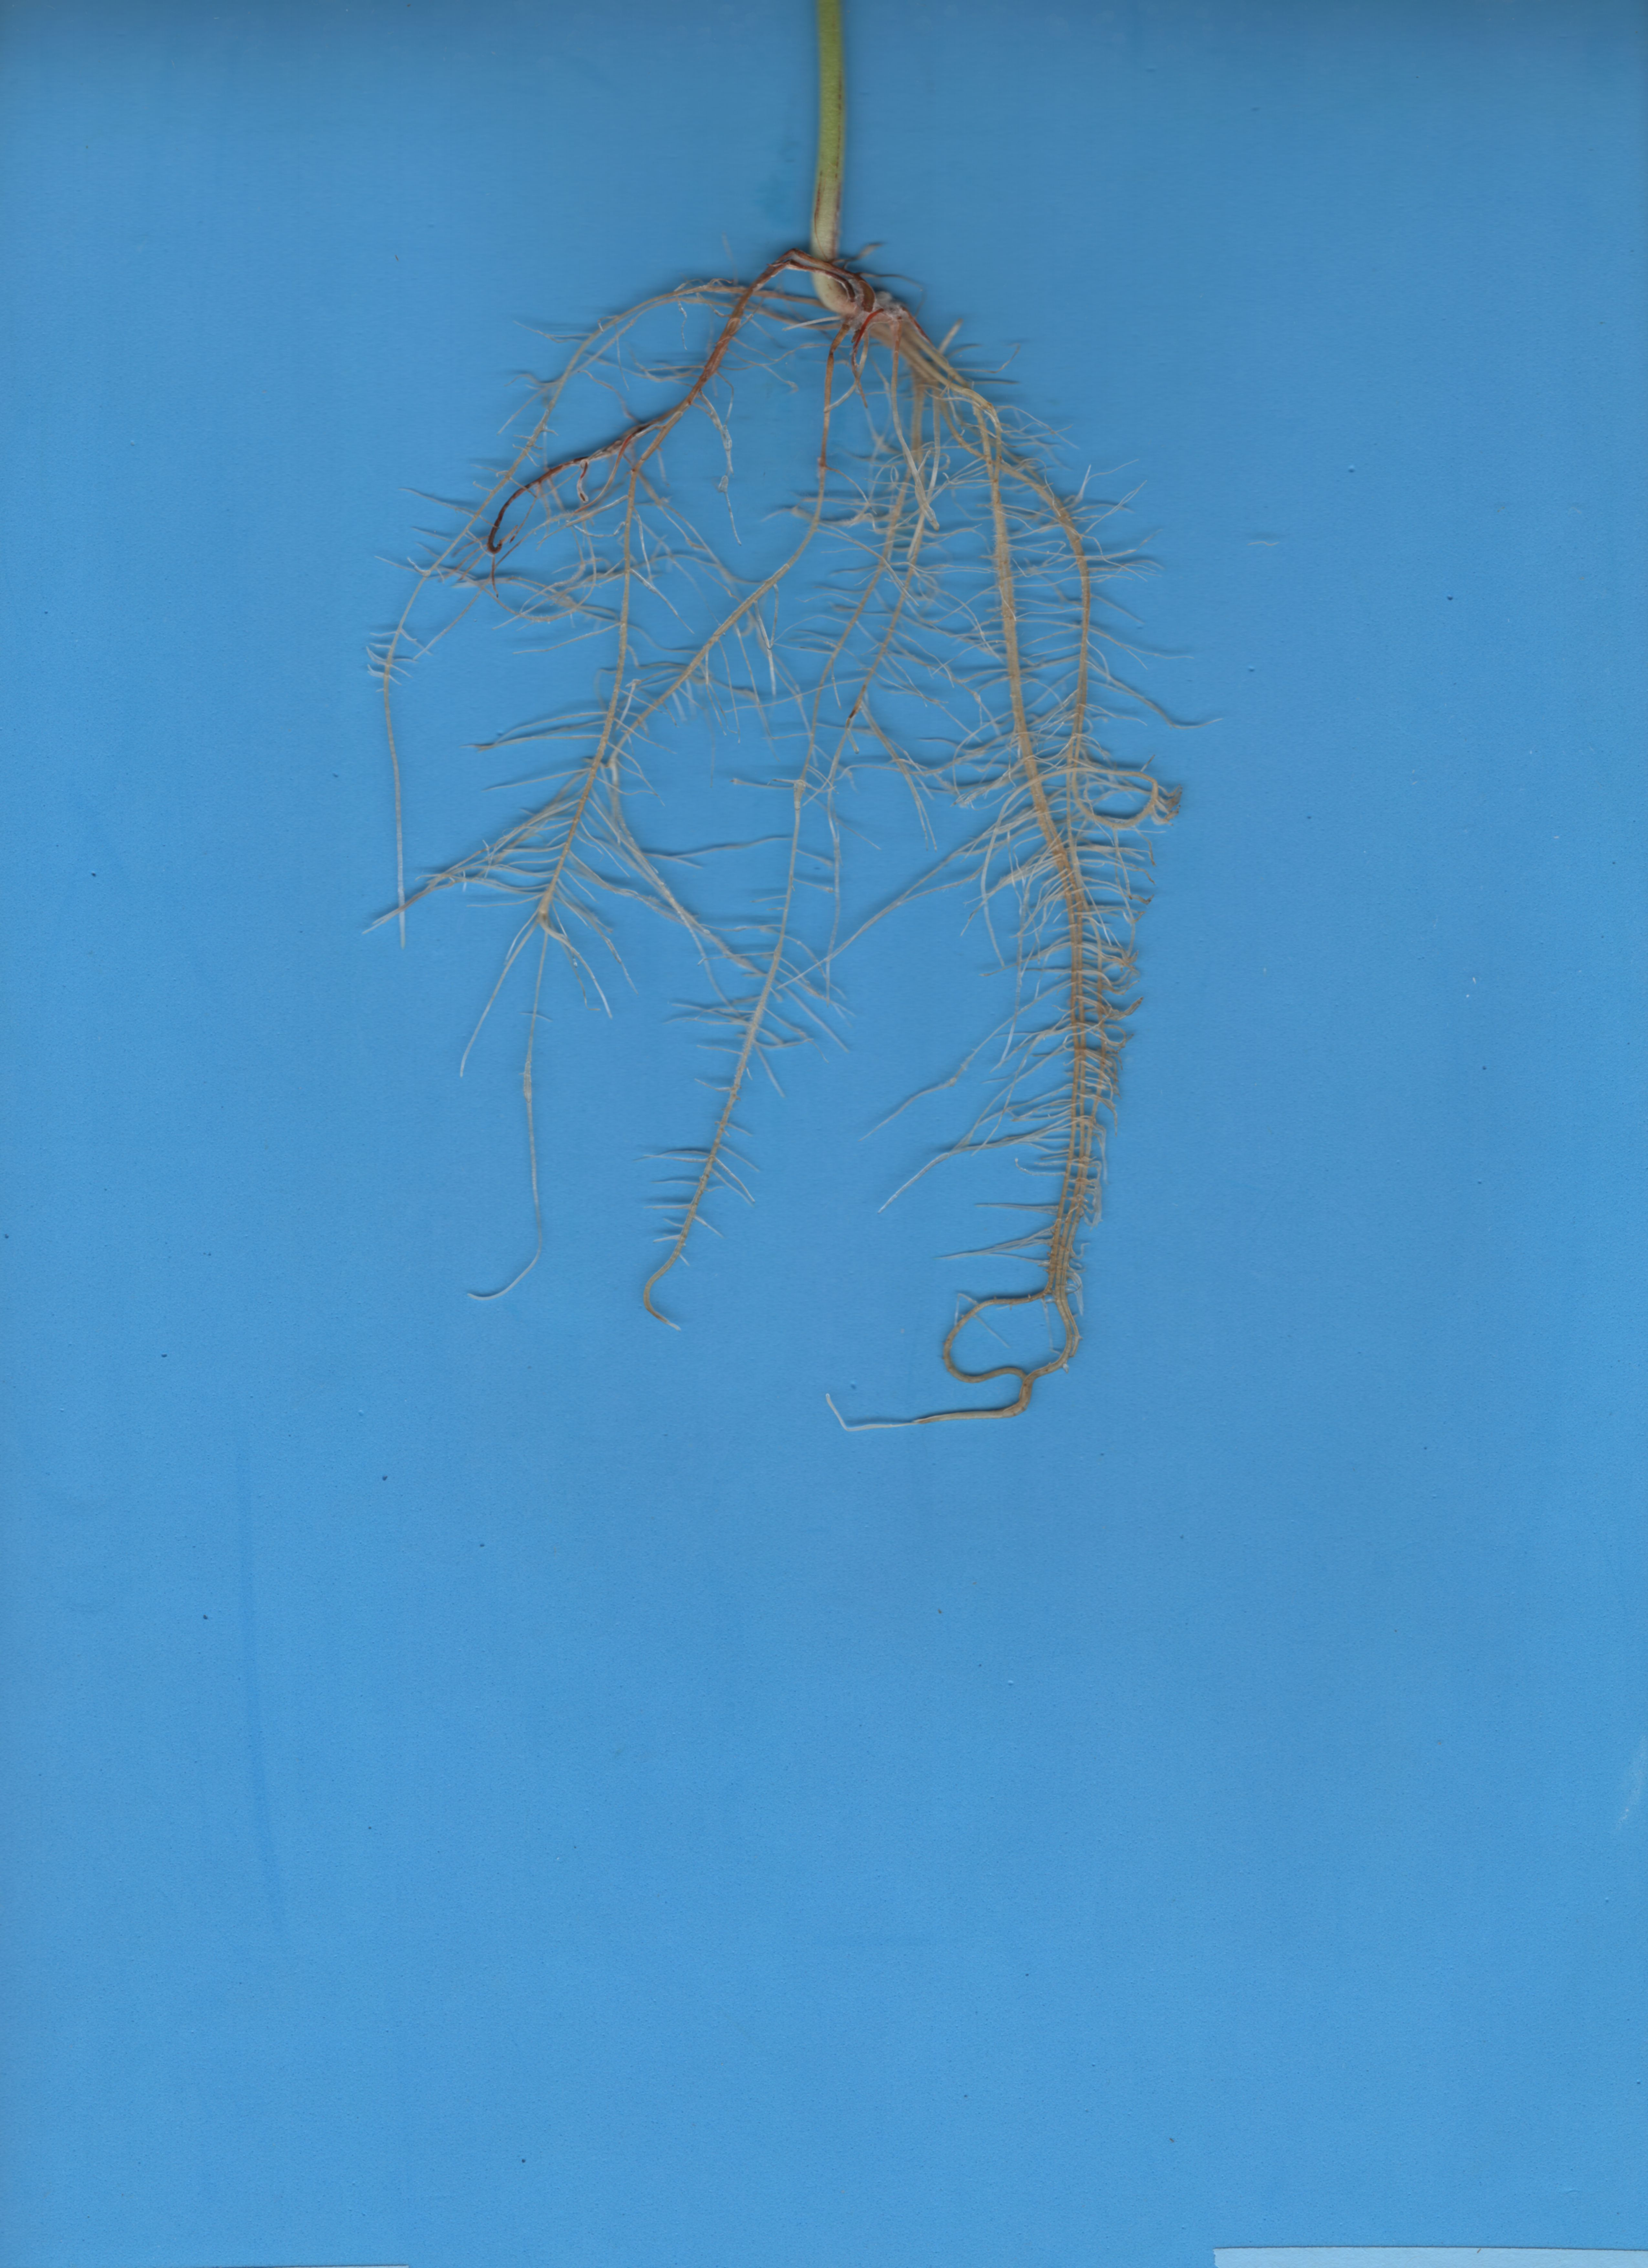CROWNGOOD: (768, 11, 896, 296)
ROOTDISEASE: (287, 296, 1370, 1470)
